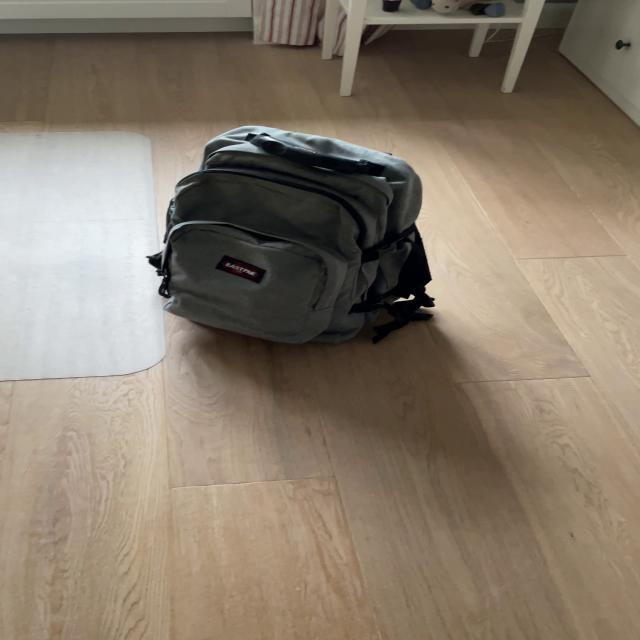backpack: (145, 115, 442, 351)
